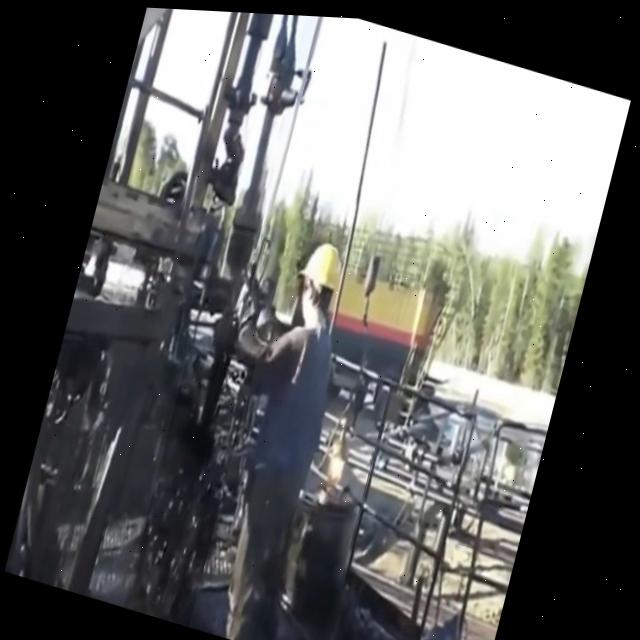spillage: (123, 343, 254, 624)
